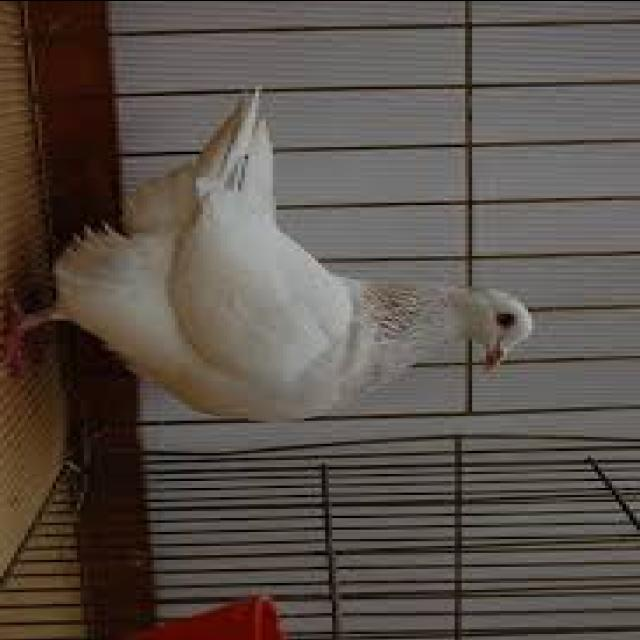pigeon: (4, 120, 546, 432)
